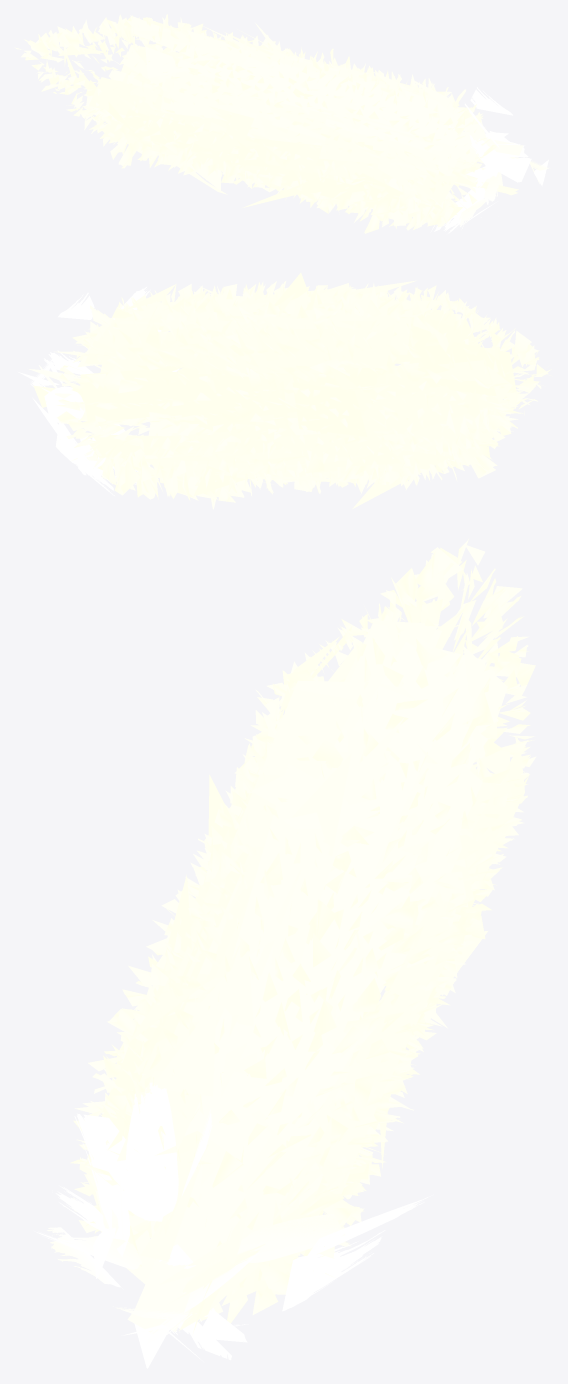
The model's file is corn_cob.glb.
The picture shows the model from 3 angles, top to bottom: view 1: azimuth 30°, elevation 25°; view 2: azimuth 150°, elevation 25°; view 3: azimuth 270°, elevation 25°; orthographic projection. The views are drawn at different scales.
Visible parts, largest first — view 1: TaperedMarker_geo_TaperedMarker_0, Toon_geo_Toon_0, Ink_geo_Ink_0, Toon_geo_Toon_0.001; view 2: TaperedMarker_geo_TaperedMarker_0, Toon_geo_Toon_0, Ink_geo_Ink_0, Toon_geo_Toon_0.001; view 3: TaperedMarker_geo_TaperedMarker_0, Toon_geo_Toon_0, Ink_geo_Ink_0, Toon_geo_Toon_0.001.
Part boxes in pixels (x1=…): TaperedMarker_geo_TaperedMarker_0: x1=58, y1=15, x2=523, y2=221; Toon_geo_Toon_0: x1=14, y1=14, x2=496, y2=233; Ink_geo_Ink_0: x1=430, y1=87, x2=549, y2=233; Toon_geo_Toon_0.001: x1=159, y1=55, x2=487, y2=186; TaperedMarker_geo_TaperedMarker_0: x1=33, y1=273, x2=516, y2=508; Toon_geo_Toon_0: x1=55, y1=281, x2=552, y2=509; Ink_geo_Ink_0: x1=18, y1=287, x2=178, y2=495; Toon_geo_Toon_0.001: x1=104, y1=284, x2=482, y2=338; TaperedMarker_geo_TaperedMarker_0: x1=84, y1=614, x2=528, y2=1333; Toon_geo_Toon_0: x1=73, y1=539, x2=536, y2=1323; Ink_geo_Ink_0: x1=34, y1=1082, x2=433, y2=1368; Toon_geo_Toon_0.001: x1=70, y1=678, x2=296, y2=1223.
Bounding box in the file's own units: 1633 × 812 × 777.
Materials: 3 (2 with a texture image).
